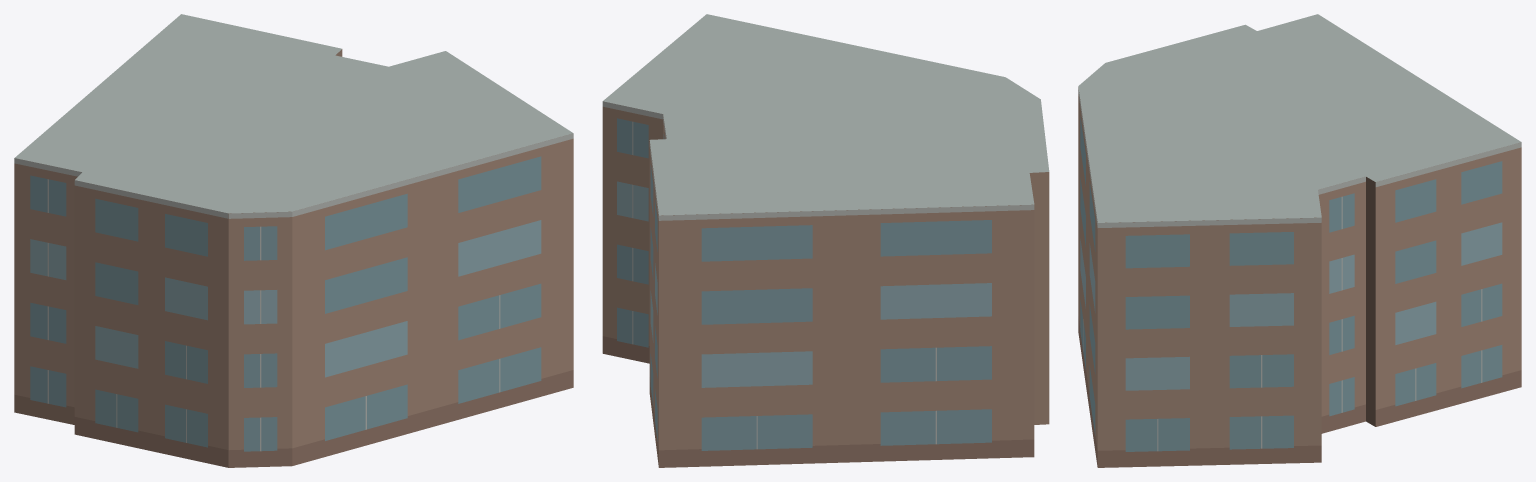
File: survey-upis-32943198.glb
3 views of the same model, side by side, from view 1: azimuth 30°, elevation 25°; view 2: azimuth 150°, elevation 25°; view 3: azimuth 270°, elevation 25° (orthographic). The views are drawn at different scales.
Parts seen in each view (by area): view 1: survey-upis-32943198.tmp; view 2: survey-upis-32943198.tmp; view 3: survey-upis-32943198.tmp.
Part boxes in pixels (<box>): survey-upis-32943198.tmp: <box>14,14,573,467</box>; survey-upis-32943198.tmp: <box>602,14,1049,467</box>; survey-upis-32943198.tmp: <box>1078,14,1521,467</box>.
Bounding box in the file's own units: 21.05 × 11.5 × 18.88.
